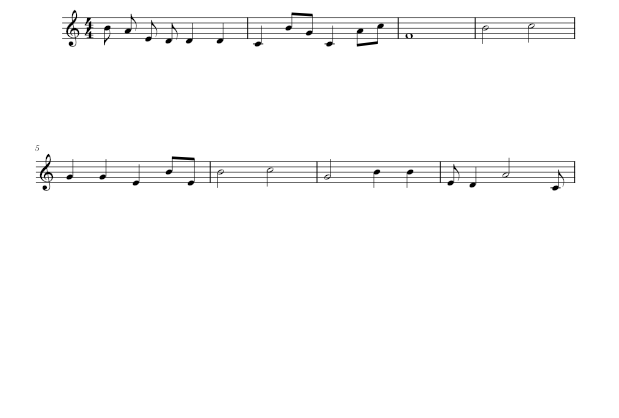Treble Clef: (63, 4, 83, 53), (37, 154, 57, 194)
